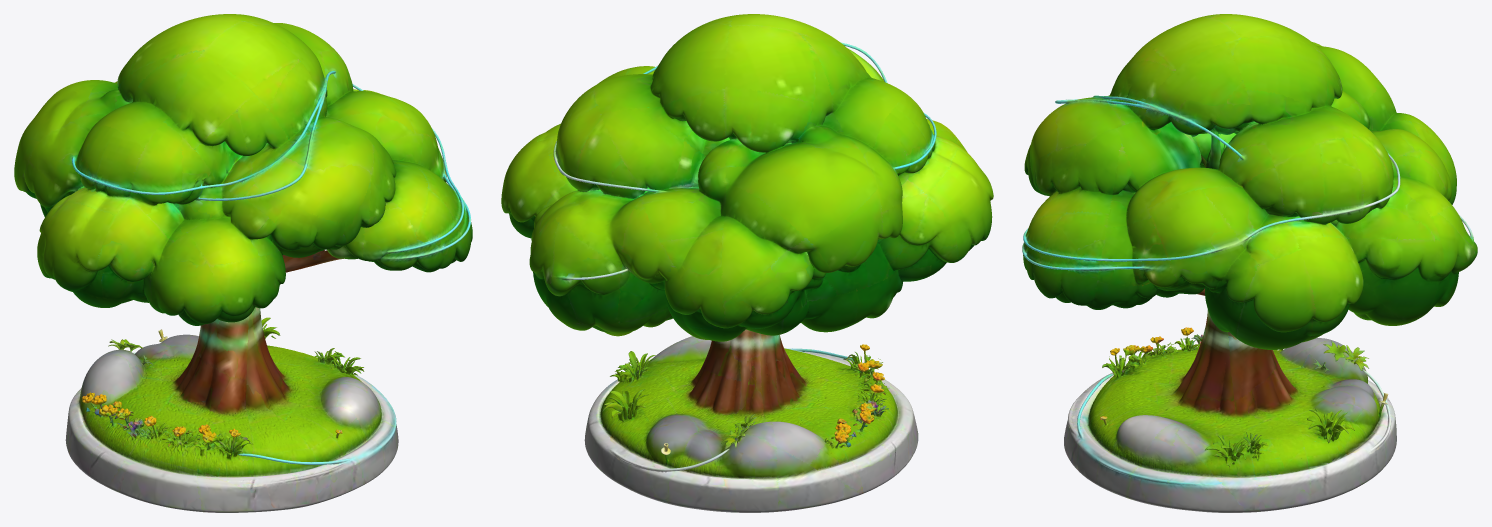
The model's file is Meshy_AI_tree_0323123943_texture_opt.glb.
3 renders of one model, left to right at view 1: azimuth 30°, elevation 25°; view 2: azimuth 150°, elevation 25°; view 3: azimuth 270°, elevation 25°, orthographic.
Size of the model in its own units: 1.9 by 1.82 by 1.79.
1 material, 1 textured.
